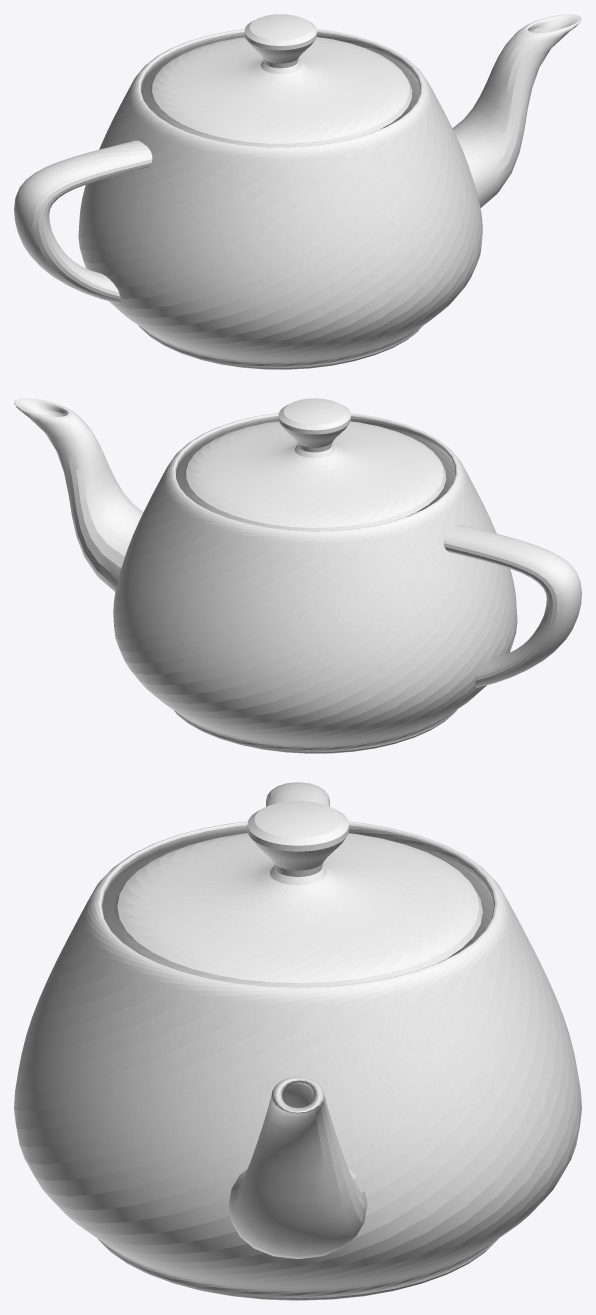
The model's file is Utah_Teapot.dae.
3 renders of one model, top to bottom at view 1: azimuth 30°, elevation 25°; view 2: azimuth 150°, elevation 25°; view 3: azimuth 270°, elevation 25°, orthographic. The views are drawn at different scales.
Visible parts, largest first — view 1: utahteapot, utahteapot_003, utahteapot_002, utahteapot_001; view 2: utahteapot, utahteapot_003, utahteapot_002, utahteapot_001; view 3: utahteapot, utahteapot_003, utahteapot_002, utahteapot_001.
Boxes of the visible parts, <box> form: utahteapot: <box>78,29,482,369</box>; utahteapot_003: <box>149,14,412,147</box>; utahteapot_002: <box>452,14,581,207</box>; utahteapot_001: <box>14,140,152,303</box>; utahteapot: <box>113,413,517,753</box>; utahteapot_003: <box>183,398,446,530</box>; utahteapot_002: <box>14,398,143,591</box>; utahteapot_001: <box>443,524,581,687</box>; utahteapot: <box>14,821,581,1300</box>; utahteapot_003: <box>113,801,482,987</box>; utahteapot_002: <box>228,1077,367,1258</box>; utahteapot_001: <box>266,782,329,806</box>.
Bounding box in the file's own units: 60.09 × 37.36 × 29.74.
Materials: 1 (1 with a texture image).
